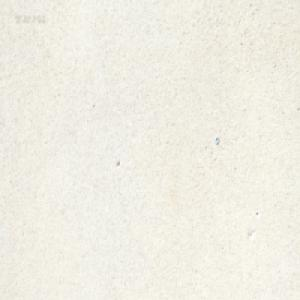Washer: (214, 136, 219, 145)
